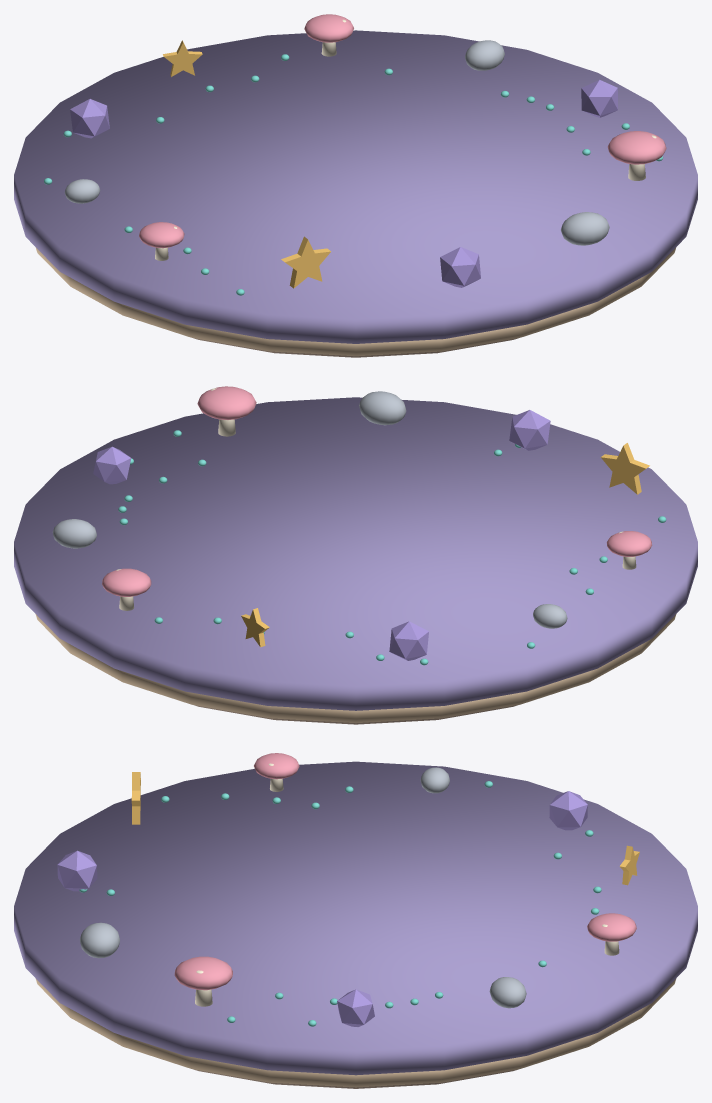
File: world.glb
3 views of the same model, one above another, from view 1: azimuth 30°, elevation 25°; view 2: azimuth 150°, elevation 25°; view 3: azimuth 270°, elevation 25° (orthographic).
Parts seen in each view (by area): view 1: Cone, Cone.001, mushroom.003, mushroom.001, gem.003, stone.003, gem.002, star.002, gem.001, mushroom.002, stone.001, stone.002 (+2 smaller); view 2: Cone, Cone.001, mushroom.003, mushroom.001, gem.003, stone.003, gem.002, star.002, mushroom.002, gem.001, stone.001, stone.002 (+2 smaller); view 3: Cone, Cone.001, mushroom.003, mushroom.001, gem.003, gem.002, stone.003, mushroom.002, gem.001, stone.001, stone.002, Cone.002.
Part boxes in pixels (x1=…): Cone: x1=14, y1=30, x2=697, y2=343; Cone.001: x1=35, y1=247, x2=676, y2=356; mushroom.003: x1=607, y1=131, x2=666, y2=180; mushroom.001: x1=304, y1=14, x2=353, y2=56; gem.003: x1=440, y1=247, x2=480, y2=287; stone.003: x1=561, y1=212, x2=609, y2=245; gem.002: x1=70, y1=99, x2=109, y2=138; star.002: x1=281, y1=236, x2=330, y2=288; gem.001: x1=581, y1=80, x2=617, y2=117; mushroom.002: x1=139, y1=222, x2=184, y2=260; stone.001: x1=465, y1=40, x2=504, y2=70; stone.002: x1=64, y1=179, x2=100, y2=203; Cone: x1=14, y1=397, x2=697, y2=710; Cone.001: x1=35, y1=614, x2=676, y2=723; mushroom.003: x1=197, y1=386, x2=256, y2=436; mushroom.001: x1=102, y1=568, x2=151, y2=610; gem.003: x1=509, y1=410, x2=550, y2=450; stone.003: x1=359, y1=391, x2=406, y2=425; gem.002: x1=389, y1=621, x2=428, y2=660; star.002: x1=600, y1=443, x2=649, y2=494; mushroom.002: x1=606, y1=531, x2=652, y2=569; gem.001: x1=93, y1=446, x2=131, y2=484; stone.001: x1=52, y1=519, x2=96, y2=548; stone.002: x1=533, y1=604, x2=567, y2=628; Cone: x1=14, y1=761, x2=697, y2=1075; Cone.001: x1=35, y1=978, x2=676, y2=1087; mushroom.003: x1=174, y1=956, x2=232, y2=1006; mushroom.001: x1=587, y1=913, x2=636, y2=955; gem.003: x1=57, y1=850, x2=97, y2=891; gem.002: x1=549, y1=791, x2=587, y2=830; stone.003: x1=79, y1=922, x2=119, y2=958; mushroom.002: x1=254, y1=753, x2=299, y2=791; gem.001: x1=337, y1=989, x2=374, y2=1026; stone.001: x1=489, y1=977, x2=526, y2=1008; stone.002: x1=420, y1=767, x2=449, y2=793; Cone.002: x1=193, y1=1069, x2=518, y2=1088.
Size of the model in its own units: 9.6 by 1.64 by 9.6.
